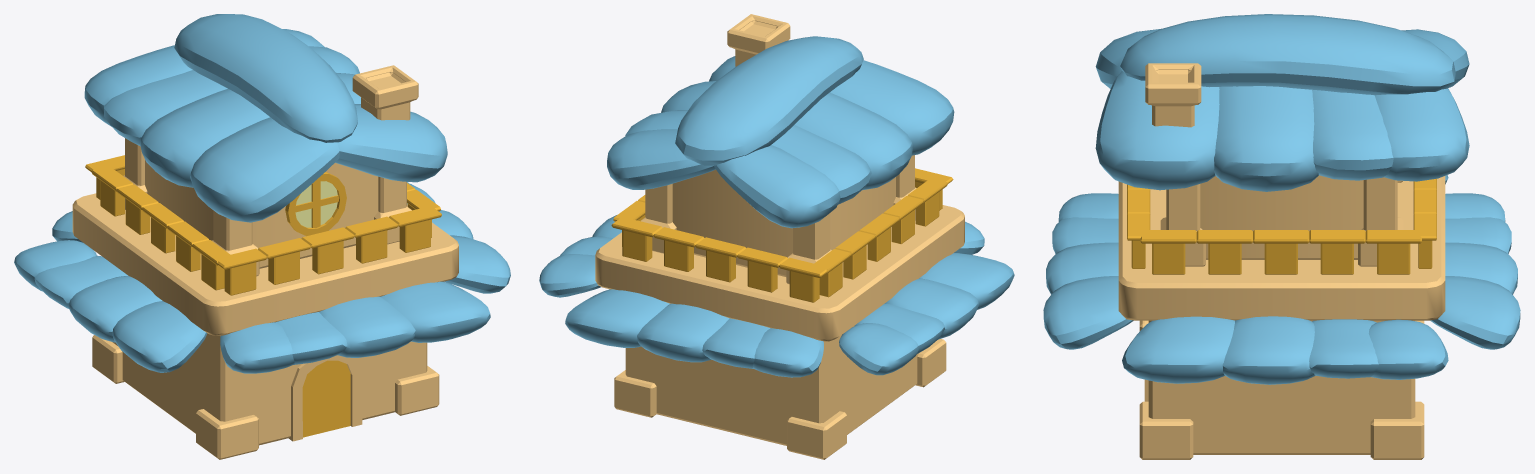
File: House3.fbx
3 renders of one model, left to right at view 1: azimuth 30°, elevation 25°; view 2: azimuth 150°, elevation 25°; view 3: azimuth 270°, elevation 25°, orthographic. The views are drawn at different scales.
Visible parts, largest first — view 1: Cube.021, Cube.022, Cube.031, Cube.030, Cube.023, Cube.017, Cube.018, Cube.024, Cube.029, Cube.026, Cube.028, Cylinder.006 (+2 smaller); view 2: Cube.021, Cube.022, Cube.031, Cube.023, Cube.030, Cube.017, Cube.018, Cube.024, Cube.029, Cube.028; view 3: Cube.021, Cube.022, Cube.030, Cube.023, Cube.031, Cube.018, Cube.024, Cube.029, Cube.017, Cube.028.
Boxes of the visible parts, left/top/right/bottom form: Cube.021: left=72, top=160, right=458, bottom=445; Cube.022: left=84, top=29, right=447, bottom=222; Cube.031: left=14, top=182, right=510, bottom=372; Cube.030: left=52, top=211, right=490, bottom=373; Cube.023: left=174, top=14, right=357, bottom=142; Cube.017: left=85, top=155, right=441, bottom=295; Cube.018: left=91, top=166, right=440, bottom=290; Cube.024: left=92, top=335, right=439, bottom=459; Cube.029: left=123, top=138, right=411, bottom=276; Cube.026: left=302, top=360, right=350, bottom=437; Cube.028: left=352, top=65, right=418, bottom=120; Cylinder.006: left=285, top=172, right=346, bottom=236; Cube.021: left=595, top=169, right=964, bottom=445; Cube.022: left=607, top=56, right=954, bottom=228; Cube.031: left=539, top=215, right=1014, bottom=375; Cube.023: left=675, top=36, right=863, bottom=165; Cube.030: left=565, top=221, right=984, bottom=377; Cube.017: left=611, top=168, right=953, bottom=302; Cube.018: left=613, top=180, right=947, bottom=297; Cube.024: left=614, top=339, right=946, bottom=459; Cube.029: left=640, top=155, right=916, bottom=284; Cube.028: left=727, top=14, right=790, bottom=66; Cube.021: left=1118, top=175, right=1445, bottom=454; Cube.022: left=1095, top=28, right=1469, bottom=191; Cube.030: left=1043, top=193, right=1520, bottom=349; Cube.023: left=1120, top=14, right=1455, bottom=95; Cube.031: left=1122, top=175, right=1448, bottom=384; Cube.018: left=1140, top=230, right=1421, bottom=274; Cube.024: left=1139, top=320, right=1424, bottom=459; Cube.029: left=1160, top=177, right=1403, bottom=266; Cube.017: left=1127, top=178, right=1436, bottom=268; Cube.028: left=1145, top=63, right=1201, bottom=127.
Size of the model in its own units: 157 by 134 by 152.
